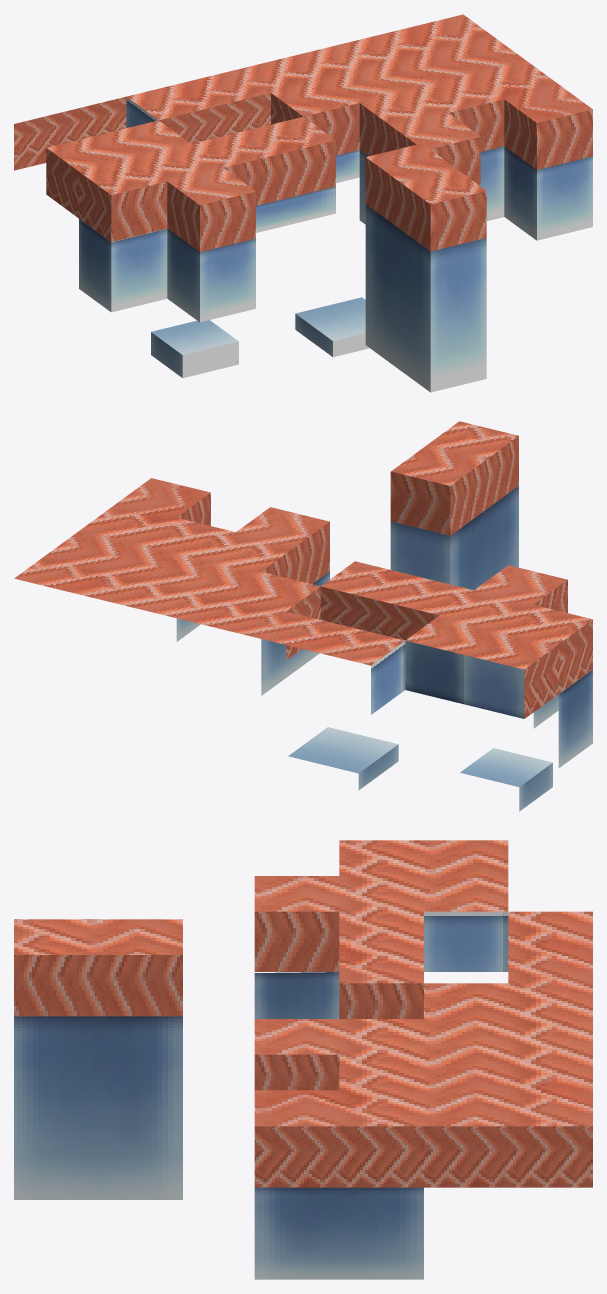
Rendered from a_ESDtrack01d.glb.
The picture shows the model from 3 angles, top to bottom: view 1: azimuth 30°, elevation 25°; view 2: azimuth 150°, elevation 25°; view 3: azimuth 270°, elevation 25°; orthographic projection. The views are drawn at different scales.
Parts seen in each view (by area): view 1: a_ESDtrack01d; view 2: a_ESDtrack01d; view 3: a_ESDtrack01d.
Boxes of the visible parts, bbox=[...] form: a_ESDtrack01d: bbox=[14, 14, 592, 392]; a_ESDtrack01d: bbox=[14, 421, 592, 811]; a_ESDtrack01d: bbox=[14, 840, 592, 1279].
Size of the model in its own units: 2 by 0.987 by 1.71.
Materials: 2 (2 with a texture image).
